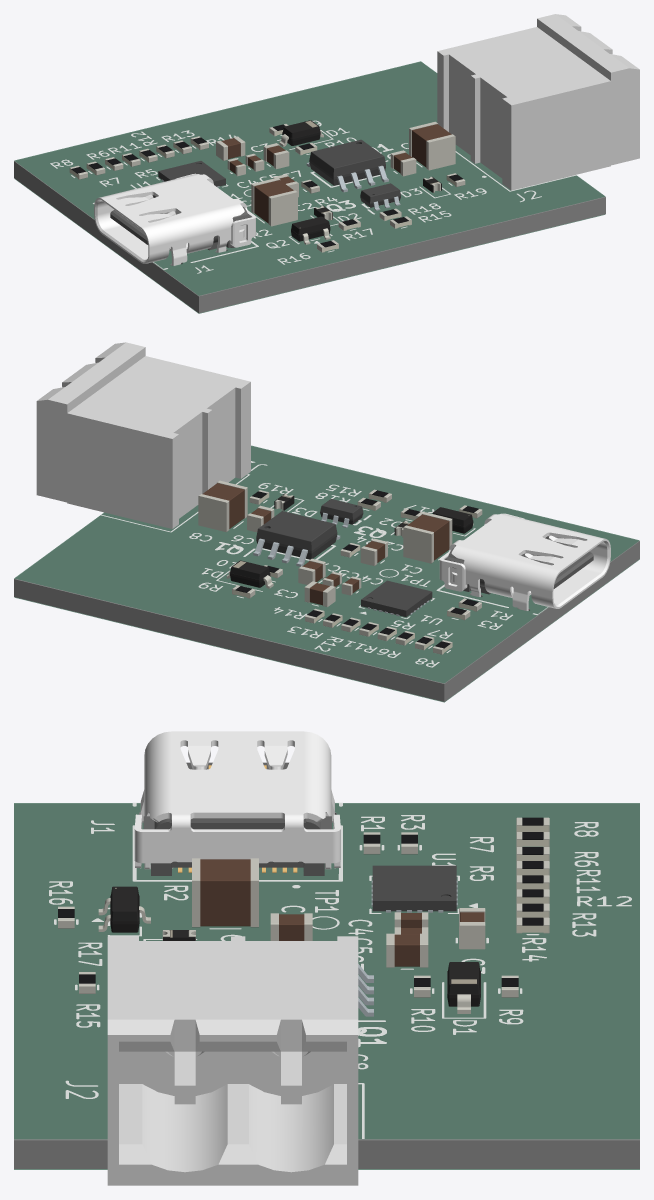
Rendered from USB-PD-Trigger-Board.glb.
The picture shows the model from 3 angles, top to bottom: view 1: azimuth 30°, elevation 25°; view 2: azimuth 150°, elevation 25°; view 3: azimuth 270°, elevation 25°; orthographic projection. The views are drawn at different scales.
Parts seen in each view (by area): view 1: =>[0:1:1:17], =>[0:1:1:15], J2, NAUO1, =>[0:1:1:2] (×3), =>[0:1:1:14], C1, C8, D1, Q2, =>[0:1:1:16], C3 (+3 smaller); view 2: =>[0:1:1:17], =>[0:1:1:15], J2, NAUO1, =>[0:1:1:2] (×3), =>[0:1:1:14], C8, C1, D1, =>[0:1:1:16], C3, C2 (+3 smaller); view 3: =>[0:1:1:17], =>[0:1:1:15], J2, NAUO1, =>[0:1:1:14], C1, =>[0:1:1:2], Q2, D1, C7, C2, C3 (+1 smaller).
Boxes of the visible parts, x1,y1,x2,y2 form: =>[0:1:1:17]: [14, 62, 605, 313]; =>[0:1:1:15]: [14, 61, 605, 295]; J2: [437, 14, 639, 190]; NAUO1: [94, 173, 255, 265]; =>[0:1:1:2] (×3): [158, 139, 400, 207]; =>[0:1:1:14]: [50, 120, 576, 273]; C1: [251, 177, 297, 226]; C8: [409, 121, 455, 170]; D1: [279, 120, 323, 146]; Q2: [291, 216, 330, 244]; =>[0:1:1:16]: [14, 178, 605, 313]; C3: [216, 136, 245, 160]; =>[0:1:1:17]: [14, 447, 639, 701]; =>[0:1:1:15]: [14, 445, 639, 683]; J2: [36, 342, 250, 528]; NAUO1: [439, 513, 610, 610]; =>[0:1:1:2] (×3): [256, 499, 432, 616]; =>[0:1:1:14]: [100, 461, 547, 667]; C8: [198, 480, 247, 532]; C1: [403, 512, 452, 563]; D1: [226, 560, 273, 588]; =>[0:1:1:16]: [14, 559, 639, 702]; C3: [304, 581, 335, 606]; C2: [360, 538, 387, 565]; =>[0:1:1:17]: [14, 804, 639, 1168]; =>[0:1:1:15]: [14, 803, 639, 1139]; J2: [107, 936, 358, 1185]; NAUO1: [134, 731, 340, 875]; =>[0:1:1:14]: [49, 802, 631, 1138]; C1: [192, 858, 258, 927]; =>[0:1:1:2]: [372, 865, 456, 911]; Q2: [98, 886, 150, 932]; D1: [447, 962, 480, 1013]; C7: [386, 933, 428, 967]; C2: [270, 913, 312, 940]; C3: [459, 908, 485, 949].
Bounding box in the file's own units: 0.0448 × 0.0118 × 0.0299.
